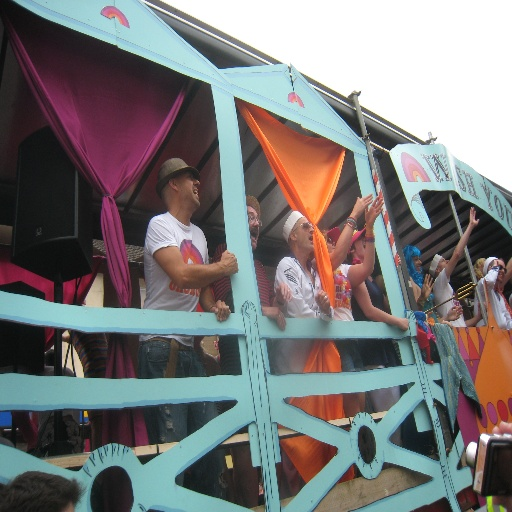hand: (264, 305, 288, 334), (351, 190, 374, 218), (363, 194, 383, 223), (274, 278, 293, 304), (220, 249, 238, 276), (211, 298, 231, 322), (312, 288, 330, 314), (421, 271, 434, 302), (446, 302, 464, 322), (469, 206, 480, 227), (477, 299, 488, 320), (398, 317, 410, 334), (492, 258, 499, 265)
